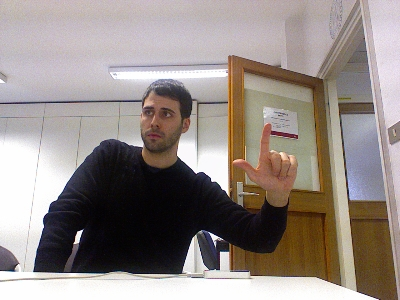枪: (229, 122, 299, 195)
